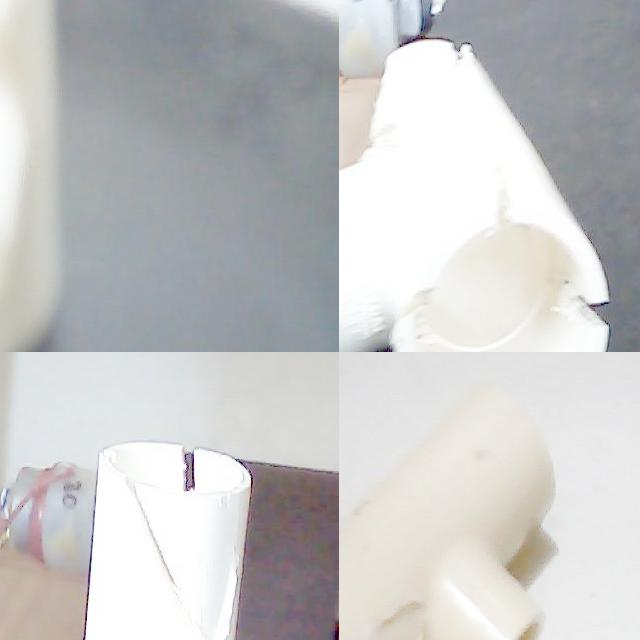Defective: (64, 445, 244, 640), (452, 163, 536, 267), (346, 62, 422, 174), (374, 274, 468, 352), (348, 571, 434, 640), (560, 260, 617, 343), (424, 31, 488, 103)
T Joint: (339, 40, 611, 352), (339, 386, 554, 640), (84, 440, 252, 640)
